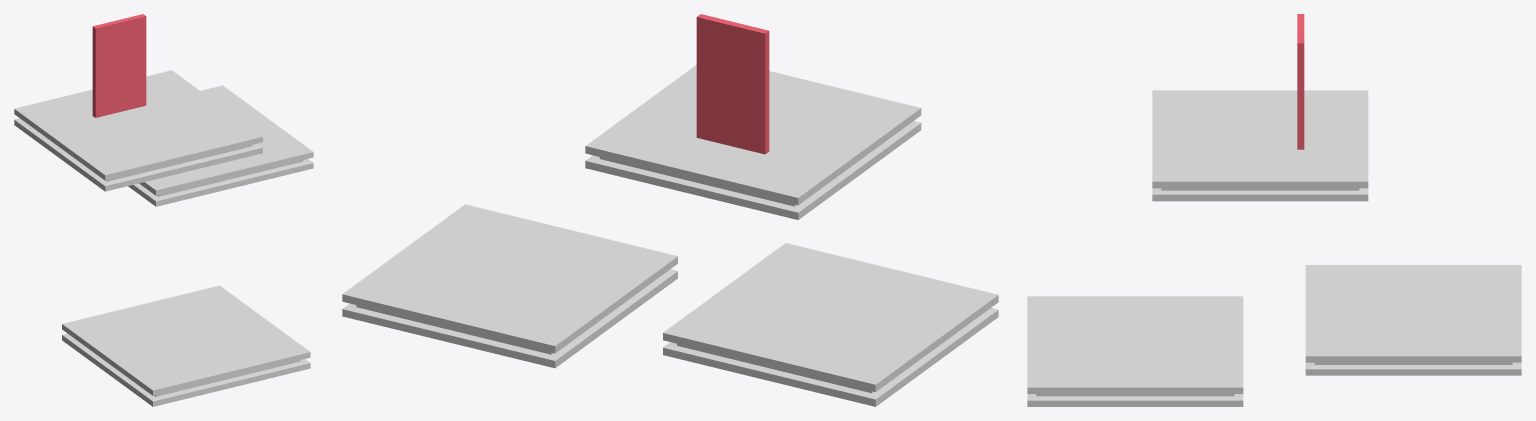
File: game.glb
3 views of the same model, side by side, from view 1: azimuth 30°, elevation 25°; view 2: azimuth 150°, elevation 25°; view 3: azimuth 270°, elevation 25° (orthographic). The views are drawn at different scales.
Visible parts, largest first — view 1: Cube, Cube.002, Cube.001, Cube.003; view 2: Cube, Cube.001, Cube.002, Cube.003; view 3: Cube, Cube.001, Cube.002, Cube.003.
Boxes of the visible parts, box(x1,y1,x2,y2) form: Cube: box(62, 285, 310, 406); Cube.002: box(14, 70, 262, 191); Cube.001: box(128, 85, 313, 206); Cube.003: box(92, 14, 146, 117); Cube: box(663, 243, 998, 406); Cube.001: box(342, 204, 677, 368); Cube.002: box(585, 65, 921, 219); Cube.003: box(696, 14, 769, 154); Cube: box(1027, 296, 1243, 406); Cube.001: box(1305, 265, 1521, 375); Cube.002: box(1152, 90, 1368, 201); Cube.003: box(1297, 14, 1304, 149).
Bounding box in the file's own units: 1.23 × 1.19 × 1.6.
